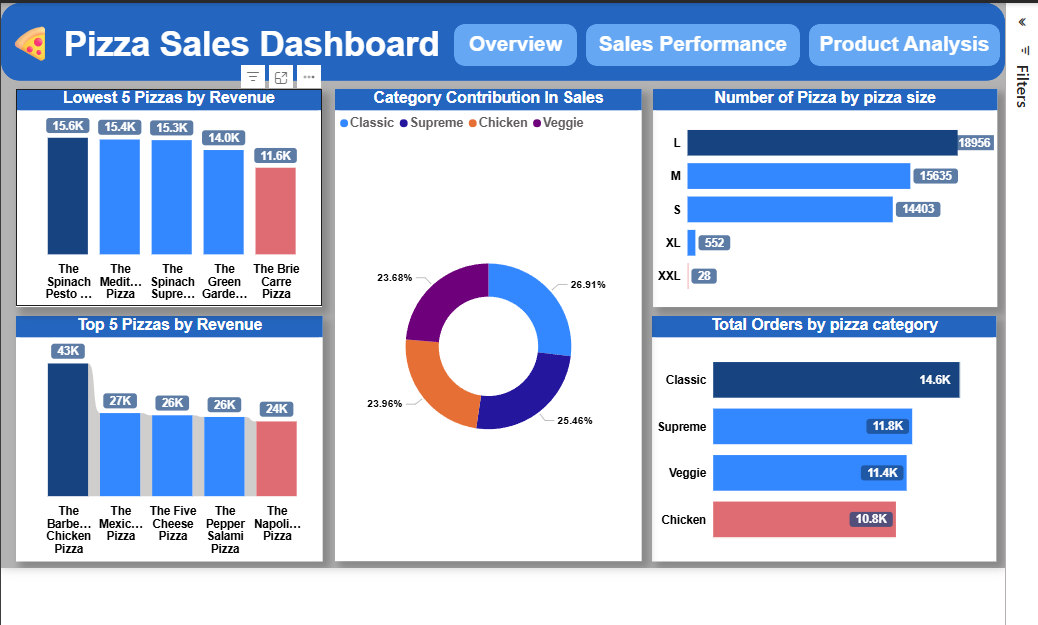

What the dashboard file says about the page in this screenshot:
{"tool":"powerbi","page":{"name":"Sales Performance","canvas":[1280,720],"ordinal":1},"visuals":[{"type":"shape","box":[0,0,1280,99.4],"z":0},{"type":"columnChart","title":"Top 5 Pizzas by Revenue","fields":{"Category":["Top_5_Pizza_In_Sales.pizza_name"],"Y":["Sum(Top_5_Pizza_In_Sales.Revenue)"]},"box":[18.9,398.5,391.3,312.7],"z":1000},{"type":"columnChart","title":"Lowest 5 Pizzas by Revenue","fields":{"Category":["Lowest_5_Pizza_In_Sales.pizza_name"],"Y":["Sum(Lowest_5_Pizza_In_Sales.Revenue)"]},"box":[18.9,109.1,389.8,277.8],"z":2000},{"type":"barChart","title":" Number of Pizza by pizza size","fields":{"Y":["Sum(Sizes_With_Highest_Quantity.Number of Pizza)"],"Category":["Sizes_With_Highest_Quantity.pizza_size"]},"box":[830.7,109.7,438.9,278.2],"z":3000},{"type":"barChart","title":"Total Orders by pizza category","fields":{"Category":["Quantity_Per_Category.pizza_category"],"Y":["Sum(Quantity_Per_Category.Total Orders)"]},"box":[830.5,398.5,439.3,312.7],"z":4000},{"type":"actionButton","box":[577.5,26.8,156.8,53.5],"z":5000},{"type":"actionButton","box":[745.8,26.8,272.8,53.5],"z":6000},{"type":"donutChart","title":"Category Contribution In Sales","fields":{"Y":["Sum(Sales_Percentage_Each_category.percentage)"],"Category":["Sales_Percentage_Each_category.pizza_category"]},"box":[426.2,109.1,391.3,602.2],"z":7000},{"type":"actionButton","box":[1030.1,26.8,243.5,53.5],"z":8000}]}

Visuals, with their boxes on the page's 1280x720 design canvas (x1, y1, x2, y2). These are canvas units, not pixel positions in the 1038x625 screenshot, which may show the page scaled, cropped or inside an application window:
shape: (x1=0, y1=0, x2=1280, y2=99)
"Top 5 Pizzas by Revenue" columnChart: (x1=19, y1=398, x2=410, y2=711)
"Lowest 5 Pizzas by Revenue" columnChart: (x1=19, y1=109, x2=409, y2=387)
" Number of Pizza by pizza size" barChart: (x1=831, y1=110, x2=1270, y2=388)
"Total Orders by pizza category" barChart: (x1=830, y1=398, x2=1270, y2=711)
actionButton: (x1=578, y1=27, x2=734, y2=80)
actionButton: (x1=746, y1=27, x2=1019, y2=80)
"Category Contribution In Sales" donutChart: (x1=426, y1=109, x2=818, y2=711)
actionButton: (x1=1030, y1=27, x2=1274, y2=80)
